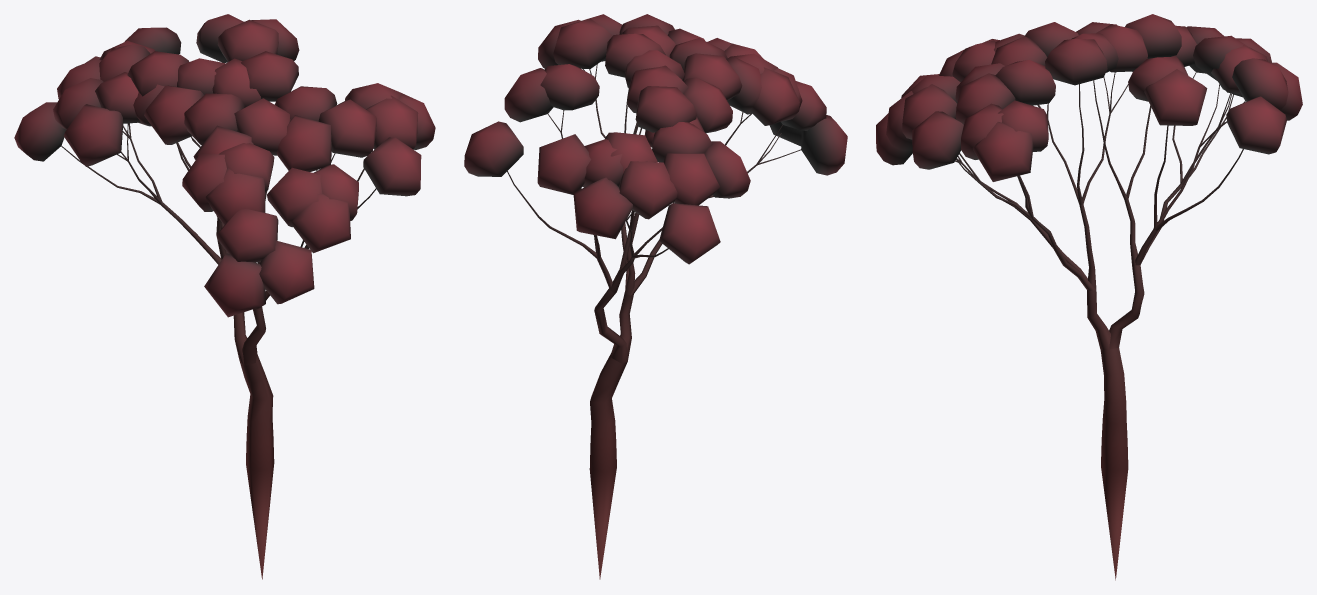
Rendered from plants-trees-palms-red-umbrella-tree_v2.glb.
3 renders of one model, left to right at view 1: azimuth 30°, elevation 25°; view 2: azimuth 150°, elevation 25°; view 3: azimuth 270°, elevation 25°, orthographic.
Visible parts, largest first — view 1: Red Umbrella Tree_v2; view 2: Red Umbrella Tree_v2; view 3: Red Umbrella Tree_v2.
Part boxes in pixels (x1,y1,x2,y2): Red Umbrella Tree_v2: (14,14,435,579); Red Umbrella Tree_v2: (464,14,847,579); Red Umbrella Tree_v2: (876,14,1302,580).
Size of the model in its own units: 2.81 by 5 by 3.62.
